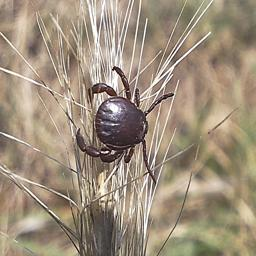Rhipicephalus sanguineus: (76, 66, 174, 184)
